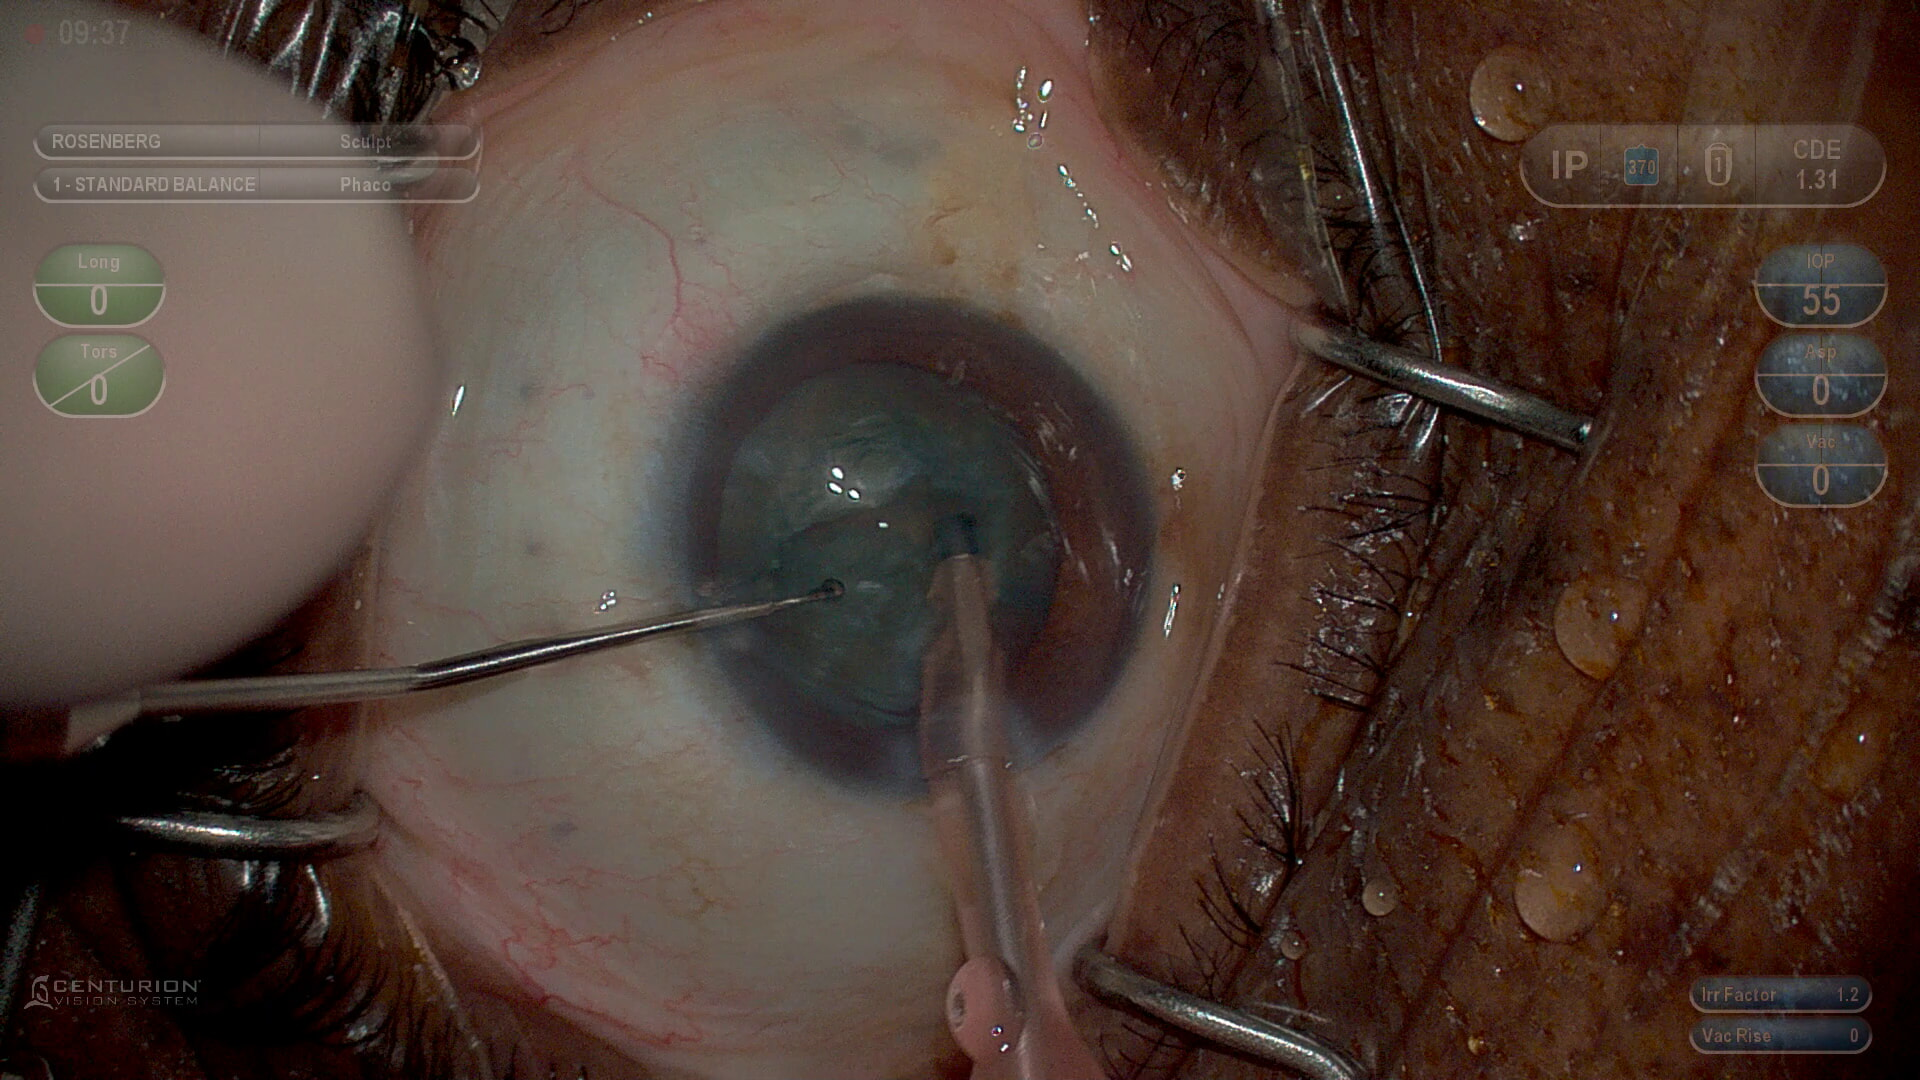iris: (655, 297, 1159, 794)
pupil: (720, 361, 1067, 731)
